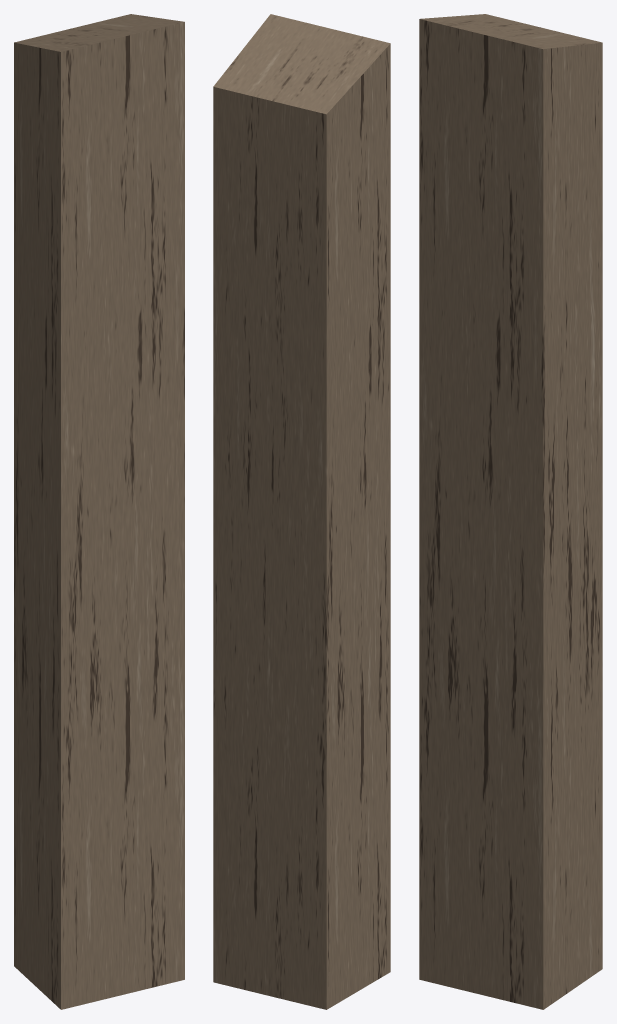
The model's file is fence_splitrail_corner_post.gltf.
3 views of the same model, side by side, from view 1: azimuth 30°, elevation 25°; view 2: azimuth 150°, elevation 25°; view 3: azimuth 330°, elevation 25° (orthographic). The views are drawn at different scales.
Visible parts, largest first — view 1: fence_splitrail_corner_post; view 2: fence_splitrail_corner_post; view 3: fence_splitrail_corner_post.
Boxes of the visible parts, bbox=[...] form: fence_splitrail_corner_post: bbox=[14, 14, 184, 1009]; fence_splitrail_corner_post: bbox=[213, 14, 390, 1009]; fence_splitrail_corner_post: bbox=[419, 14, 602, 1009].
Bounding box in the file's own units: 0.1934 × 1.4 × 0.15.
1 material, 1 textured.
